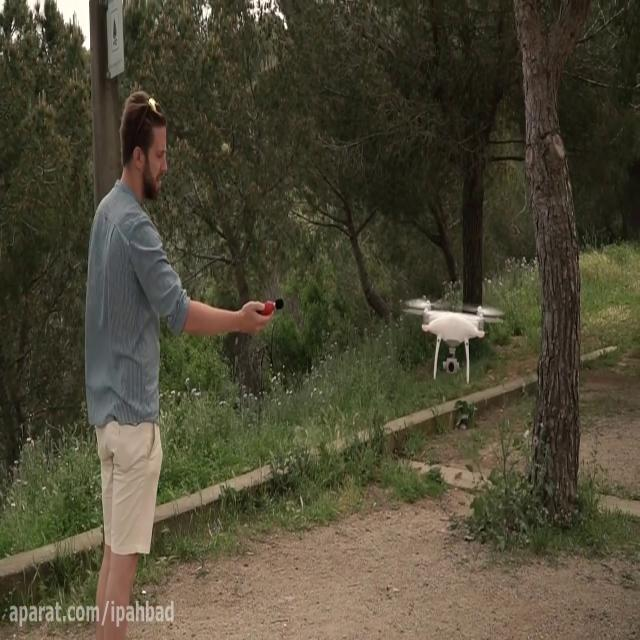drone: (403, 294, 507, 383)
